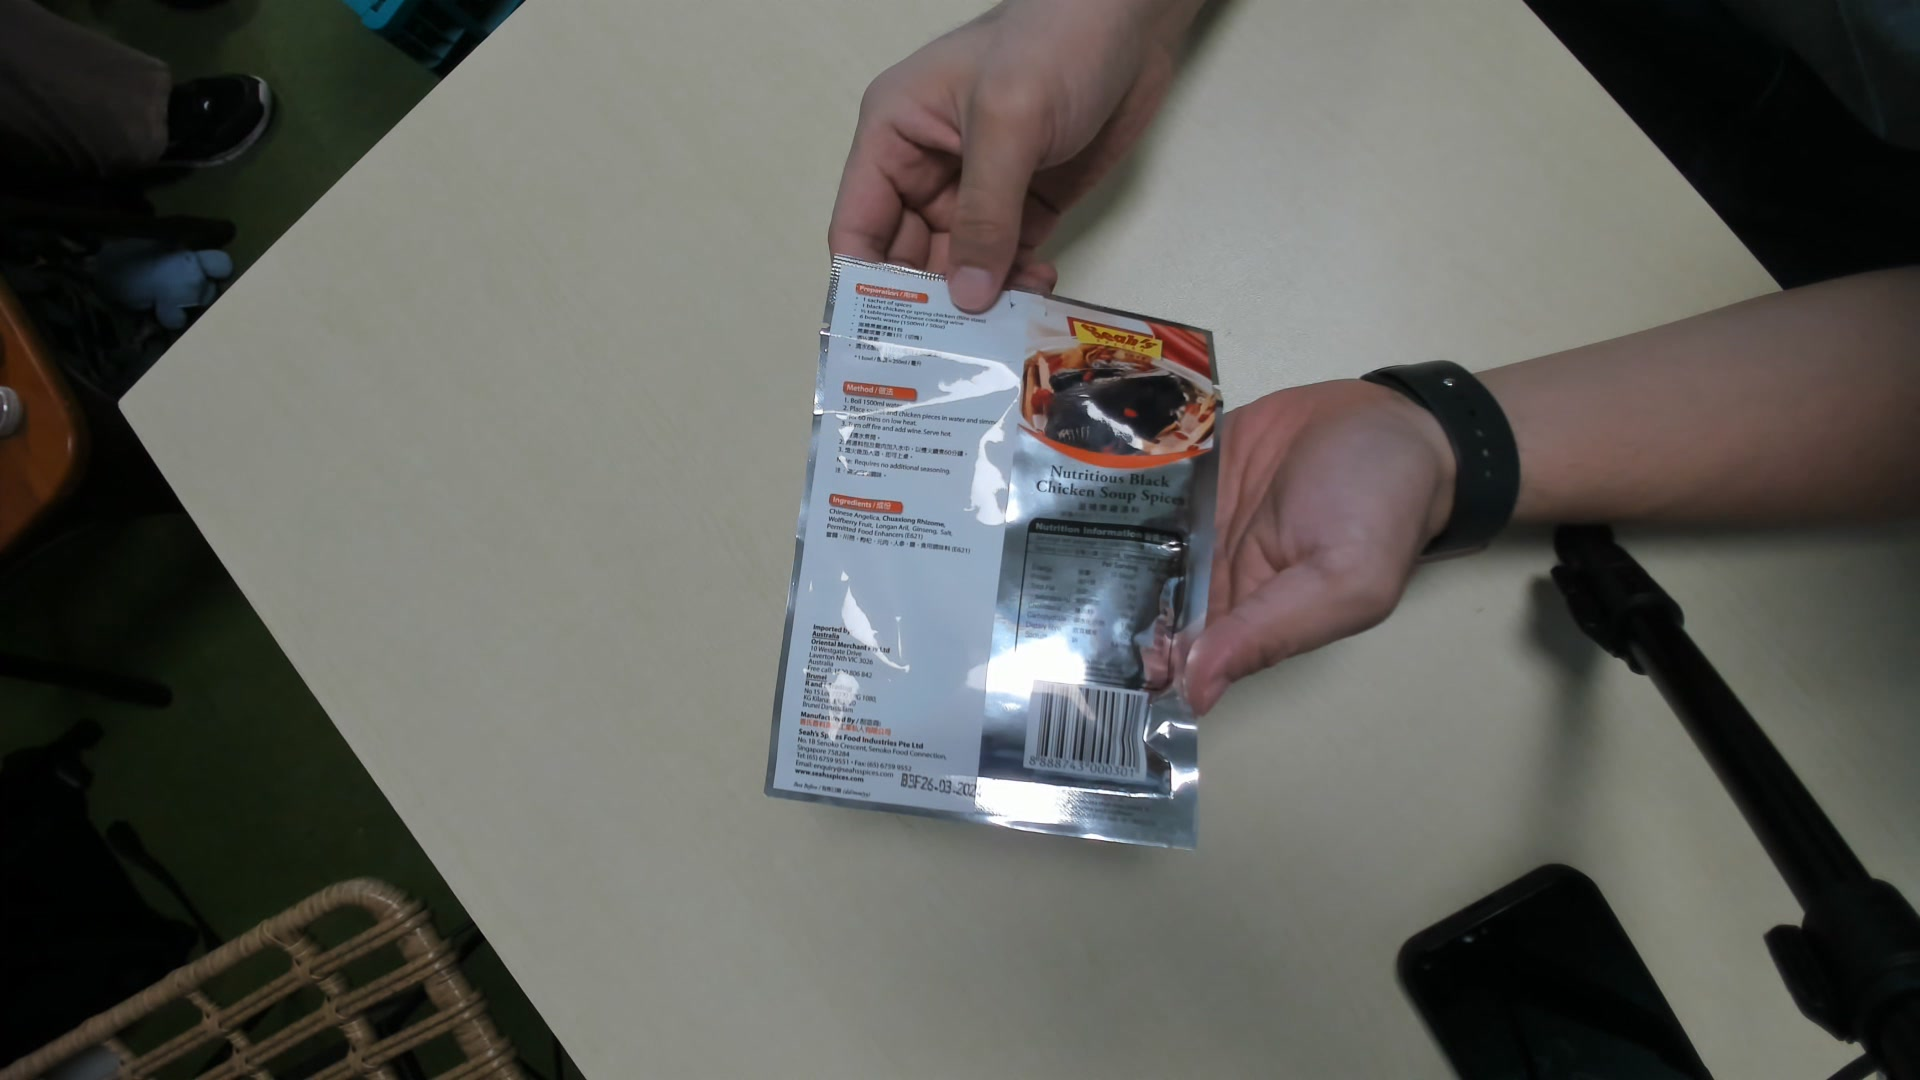OtherSauceDressing_0-99g_NonHalal_NonHealthy: (762, 257, 1218, 860)
